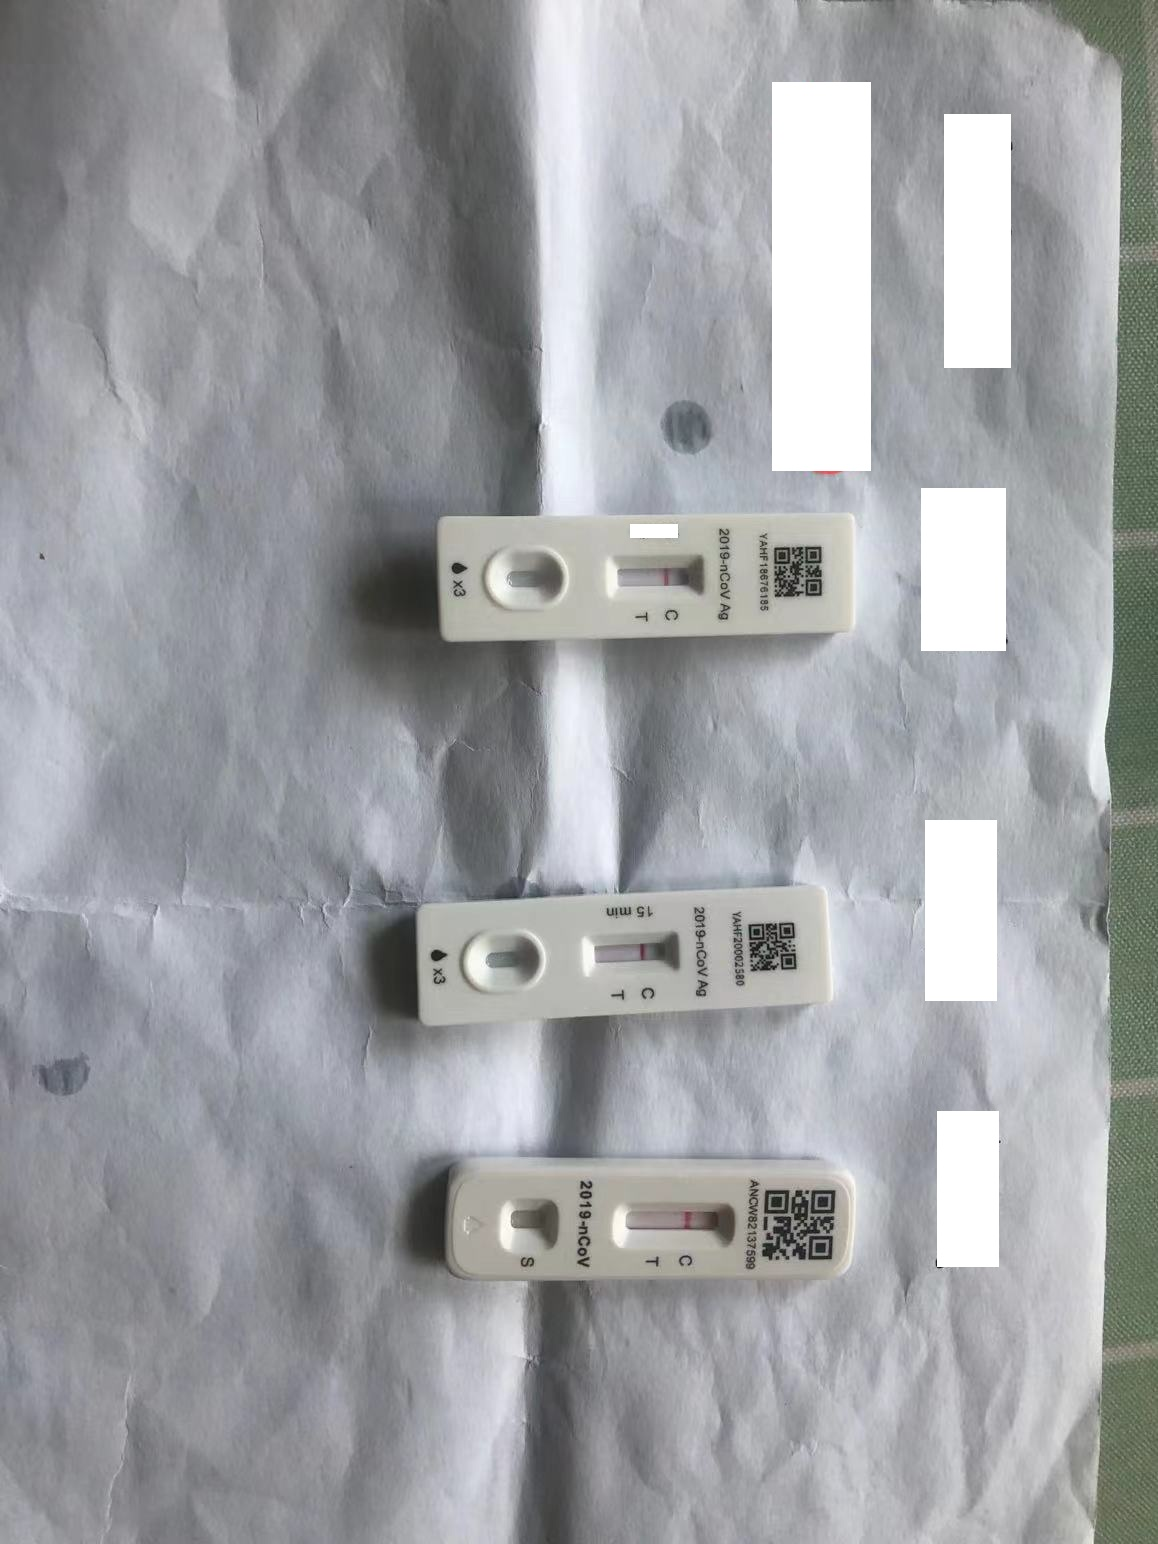negative: (612, 1196, 726, 1246), (574, 936, 674, 977), (609, 550, 703, 591)
